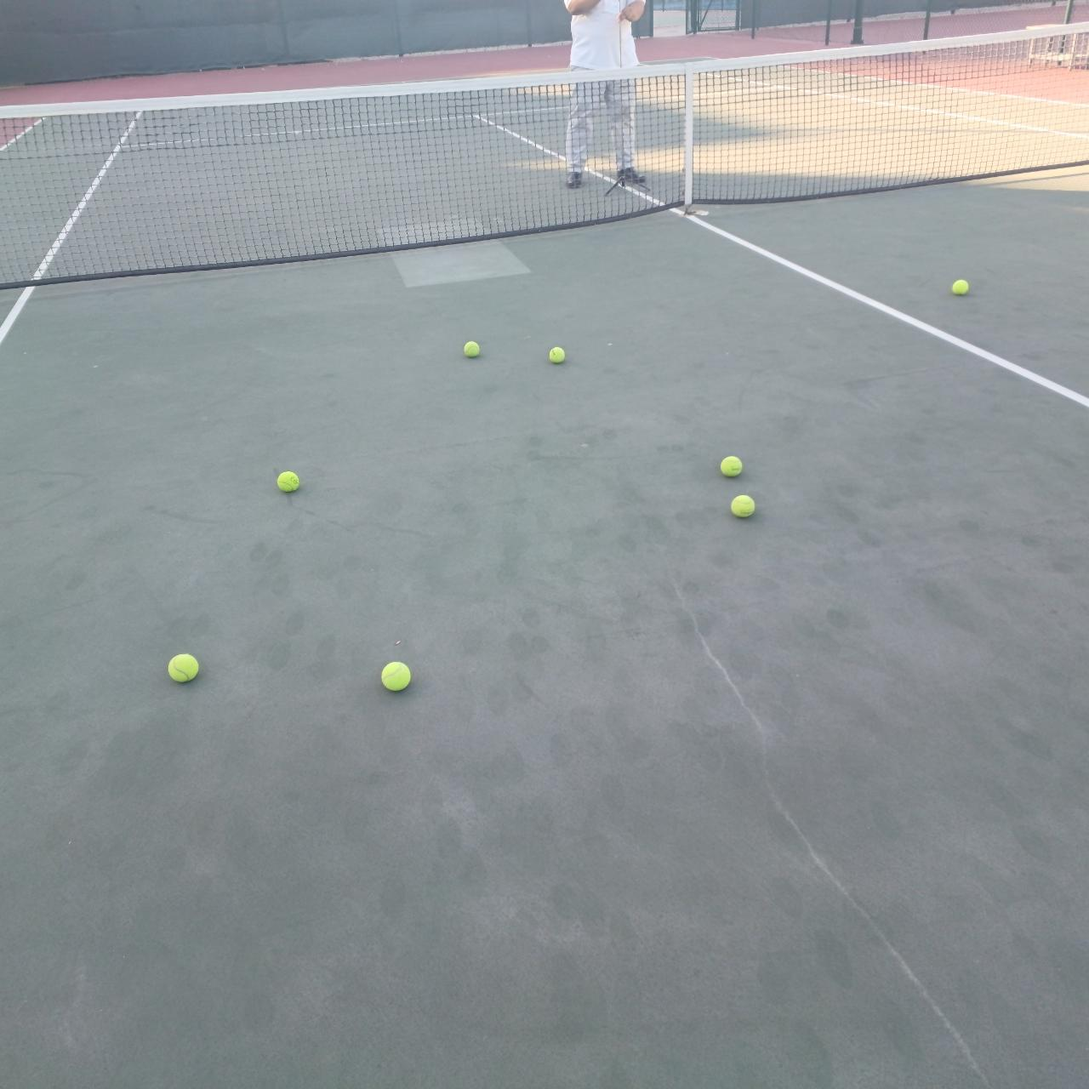tennis-ball: (379, 659, 412, 692), (166, 650, 199, 682), (728, 493, 755, 517), (275, 468, 300, 493), (718, 453, 743, 477), (950, 277, 968, 295), (547, 345, 565, 363), (462, 339, 480, 357)
